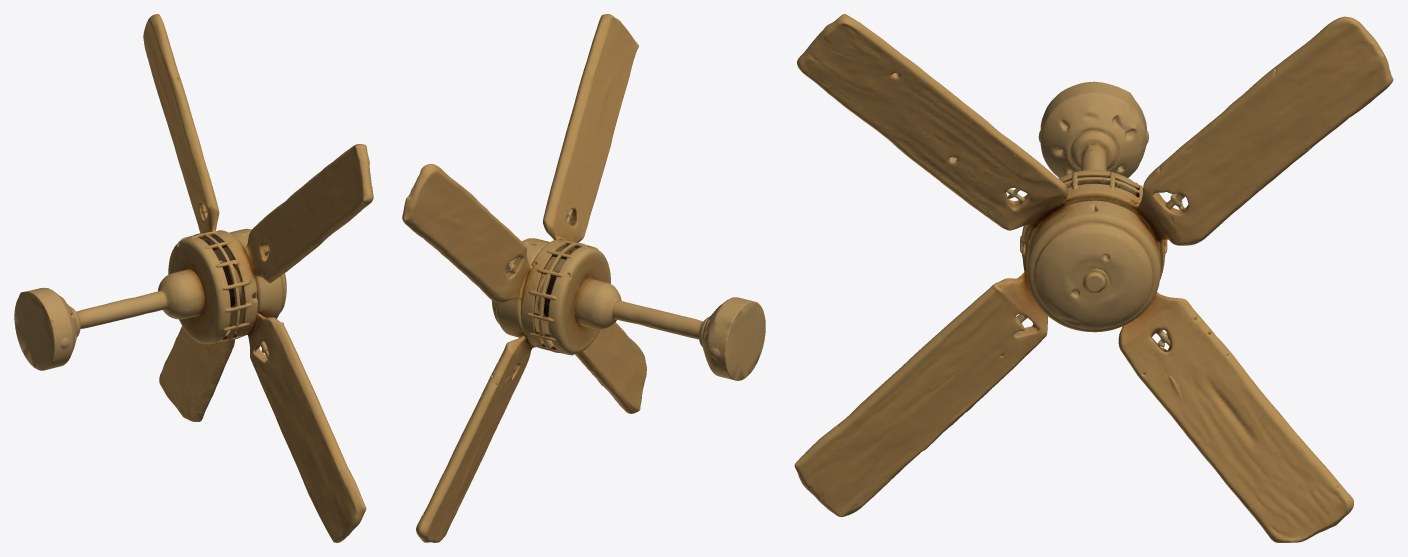
Rendered from fan-web.glb.
3 renders of one model, left to right at view 1: azimuth 30°, elevation 25°; view 2: azimuth 150°, elevation 25°; view 3: azimuth 270°, elevation 25°, orthographic. The views are drawn at different scales.
Visible parts, largest first — view 1: tripo_node_af32a0cb-84da-4e80-ad7f-f48cd6523a86; view 2: tripo_node_af32a0cb-84da-4e80-ad7f-f48cd6523a86; view 3: tripo_node_af32a0cb-84da-4e80-ad7f-f48cd6523a86.
Boxes of the visible parts, x1,y1,x2,y2 form: tripo_node_af32a0cb-84da-4e80-ad7f-f48cd6523a86: [14, 14, 373, 542]; tripo_node_af32a0cb-84da-4e80-ad7f-f48cd6523a86: [402, 14, 765, 542]; tripo_node_af32a0cb-84da-4e80-ad7f-f48cd6523a86: [794, 14, 1393, 542].
Bounding box in the file's own units: 0.6109 × 0.9669 × 1.
Materials: 1 (1 with a texture image).
